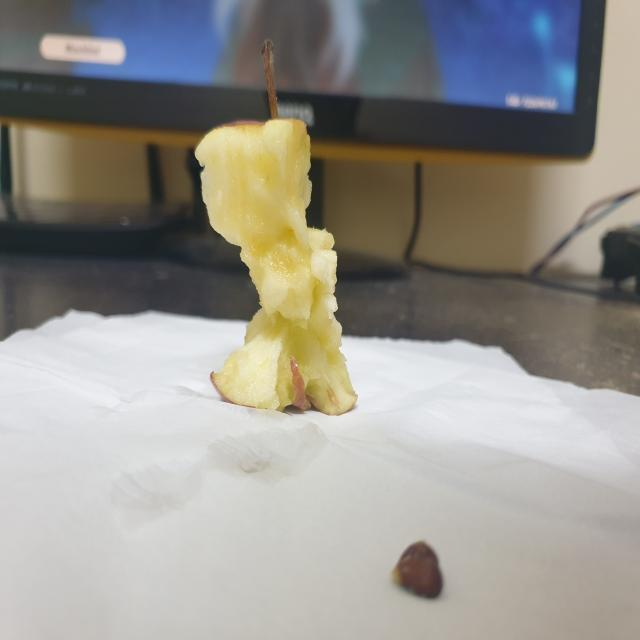apple: (178, 35, 366, 429)
